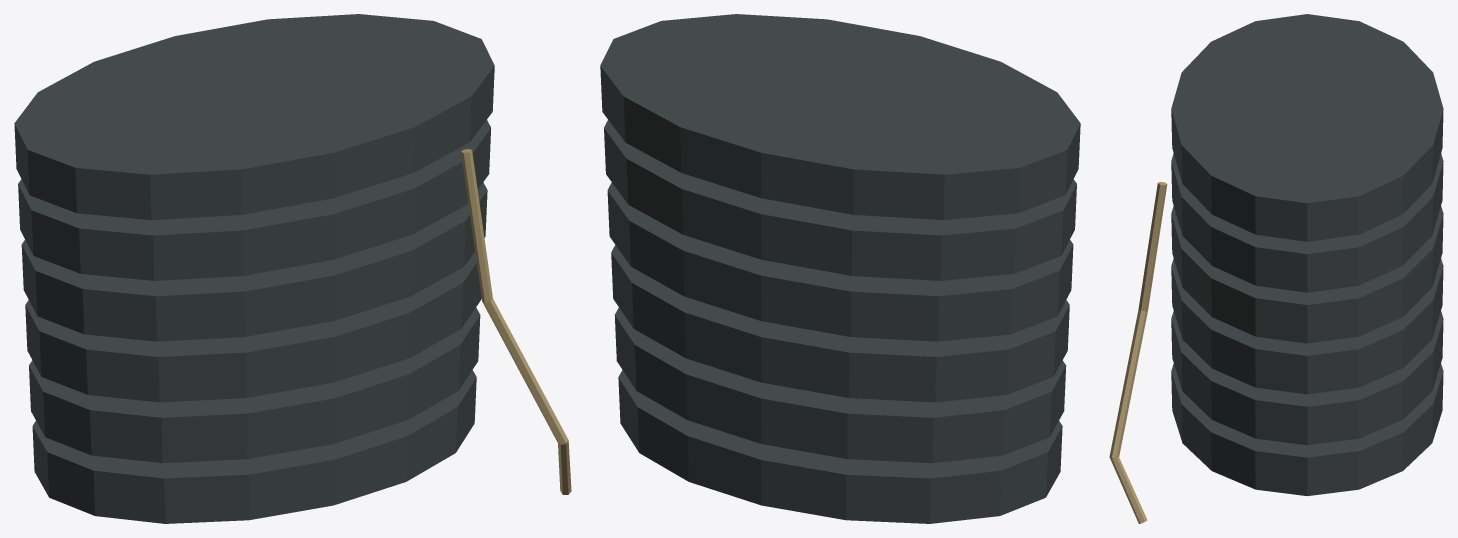
Rendered from PR_DiscardedArmor.glb.
The picture shows the model from 3 angles, left to right: view 1: azimuth 30°, elevation 25°; view 2: azimuth 150°, elevation 25°; view 3: azimuth 270°, elevation 25°; orthographic projection. The views are drawn at different scales.
Parts seen in each view (by area): view 1: PR_DiscardedArmor; view 2: PR_DiscardedArmor; view 3: PR_DiscardedArmor.
Boxes of the visible parts, <box> form: PR_DiscardedArmor: <box>14,14,571,523</box>; PR_DiscardedArmor: <box>600,14,1080,523</box>; PR_DiscardedArmor: <box>1109,14,1443,523</box>.
Bounding box in the file's own units: 0.464 × 0.3721 × 0.346.
